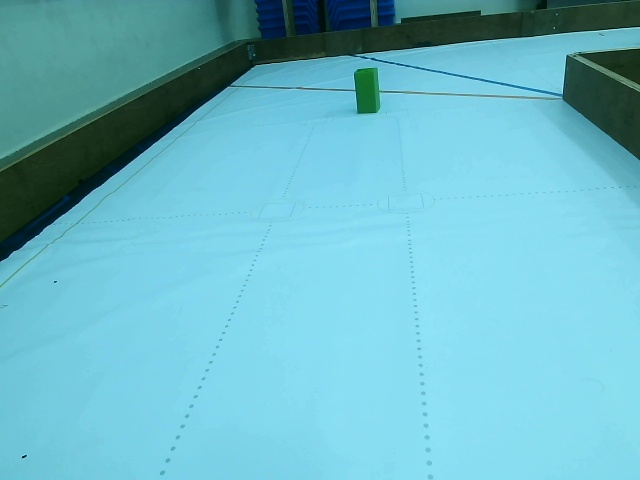green: (355, 66, 381, 115)
